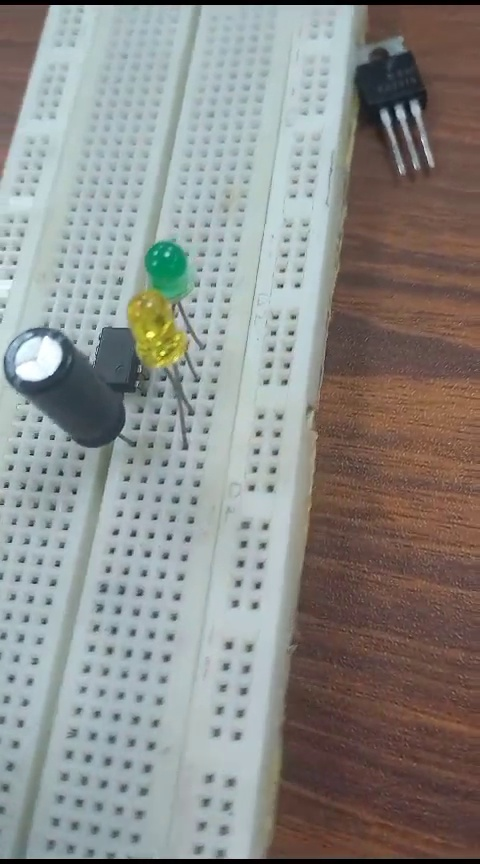IC: (88, 307, 136, 397)
LED: (118, 287, 199, 433), (135, 244, 191, 293)
capacitor: (6, 313, 120, 483)
voltage regulator: (339, 36, 444, 180)
